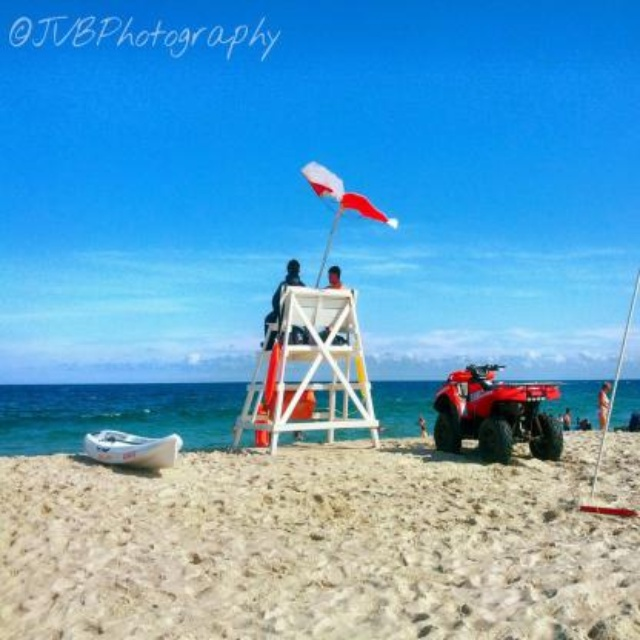Car: (426, 355, 571, 462)
